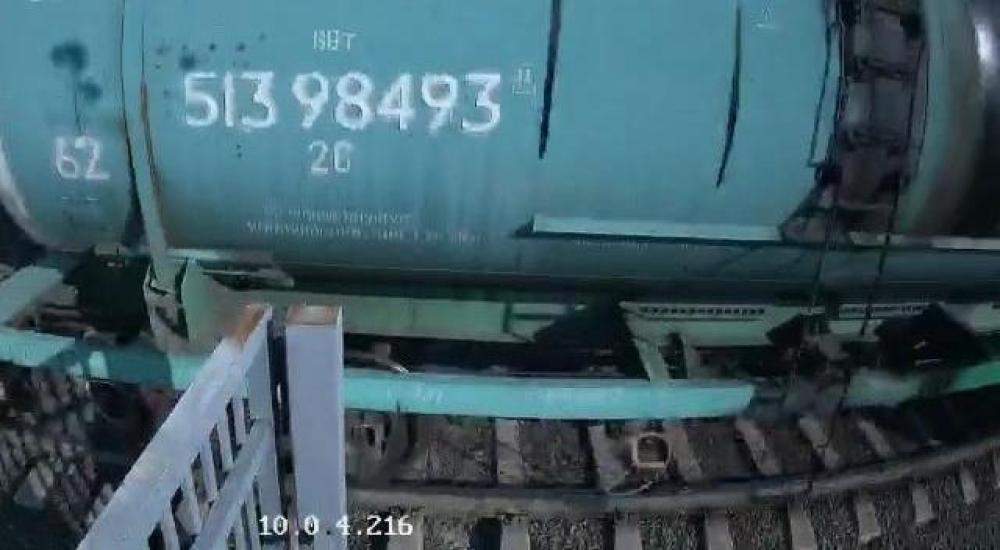Wagon-number: (179, 65, 508, 139)
